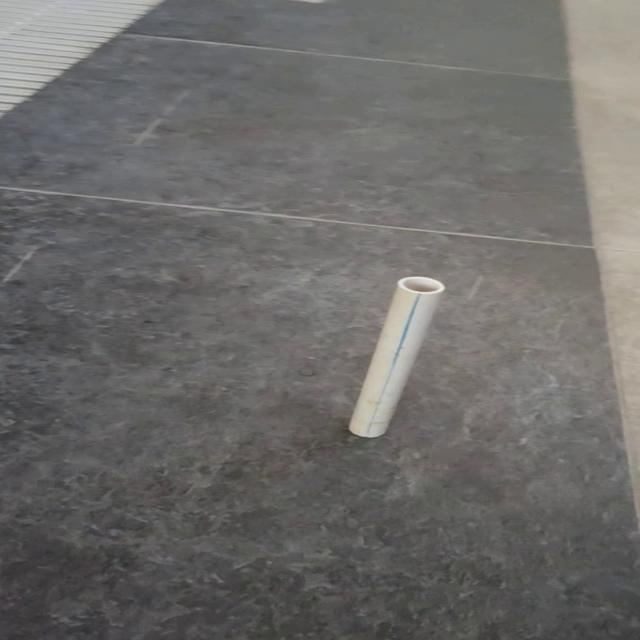Cube: (346, 275, 445, 438)
